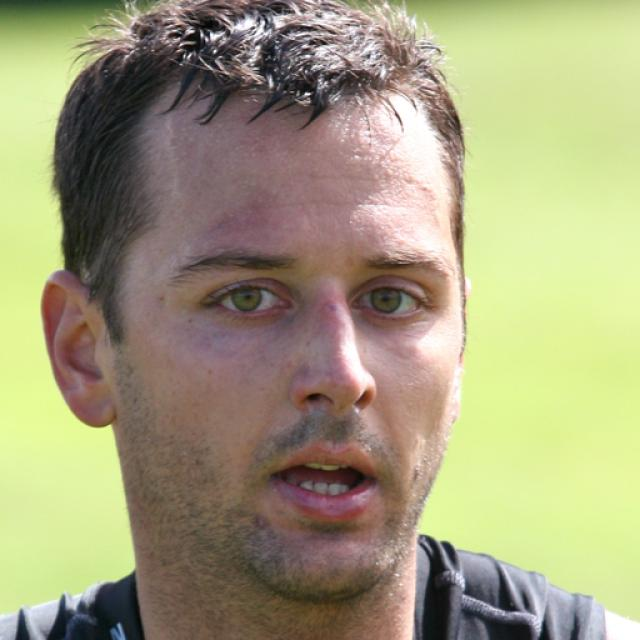Pigmentation: (193, 177, 287, 252)
Wrinkle: (277, 193, 419, 213)
